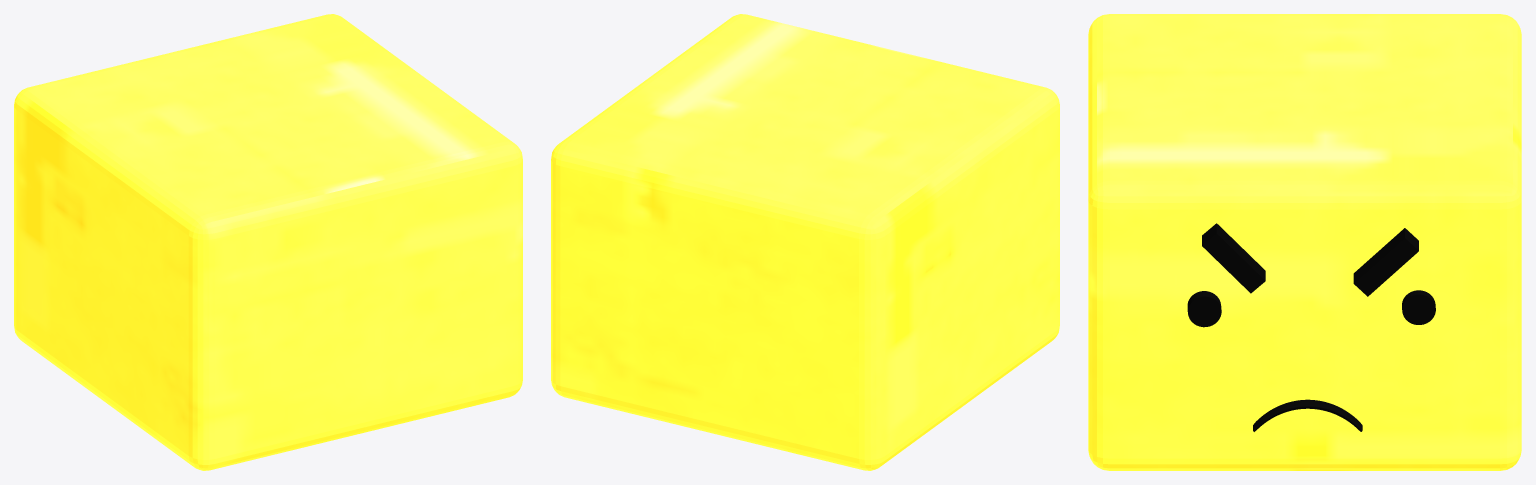
Rendered from packet-blocklistde.glb.
The picture shows the model from 3 angles, left to right: view 1: azimuth 30°, elevation 25°; view 2: azimuth 150°, elevation 25°; view 3: azimuth 270°, elevation 25°; orthographic projection. The views are drawn at different scales.
Visible parts, largest first — view 1: 立方体; view 2: 立方体; view 3: 立方体, 右眉, 左眉, NURBSカーブ, 右目, 左目.
Boxes of the visible parts, x1,y1,x2,y2 form: 立方体: (14, 14, 522, 470); 立方体: (551, 14, 1059, 470); 立方体: (1088, 14, 1521, 470); 右眉: (1353, 228, 1418, 296); 左眉: (1202, 223, 1265, 293); NURBSカーブ: (1253, 399, 1362, 431); 右目: (1187, 291, 1221, 327); 左目: (1402, 290, 1435, 324).
Bounding box in the file's own units: 2.11 × 1.47 × 2.
Materials: 6 (1 with a texture image).
